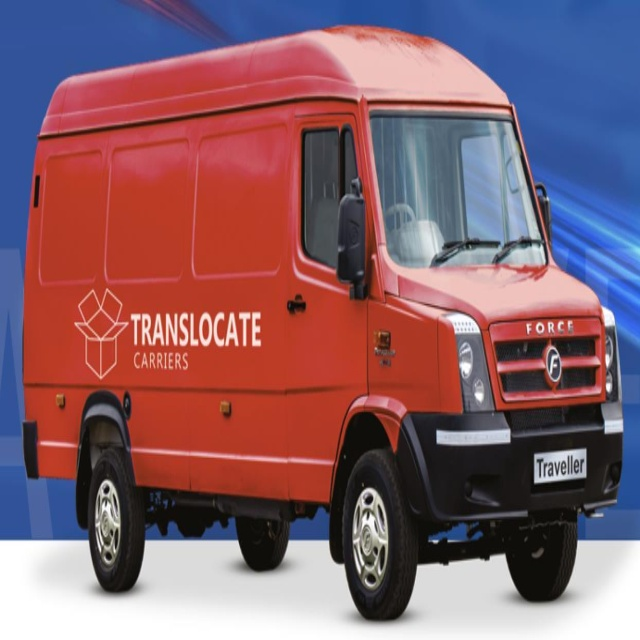Van: (22, 22, 624, 622)
